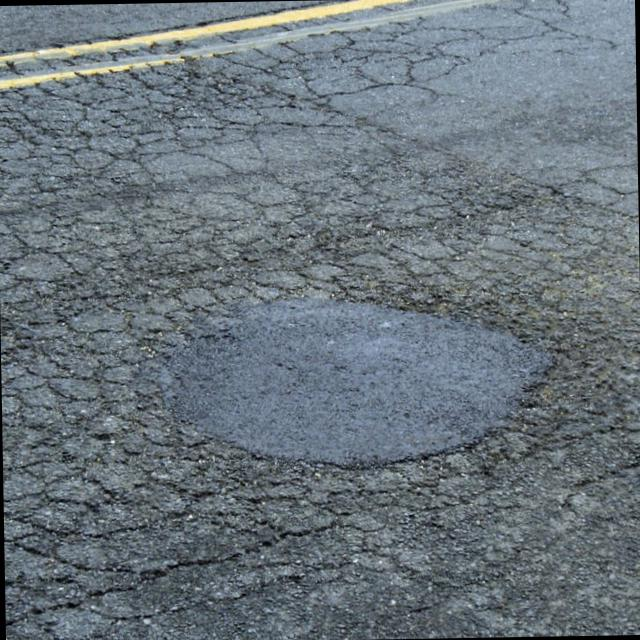Potholes: (123, 253, 636, 496)
